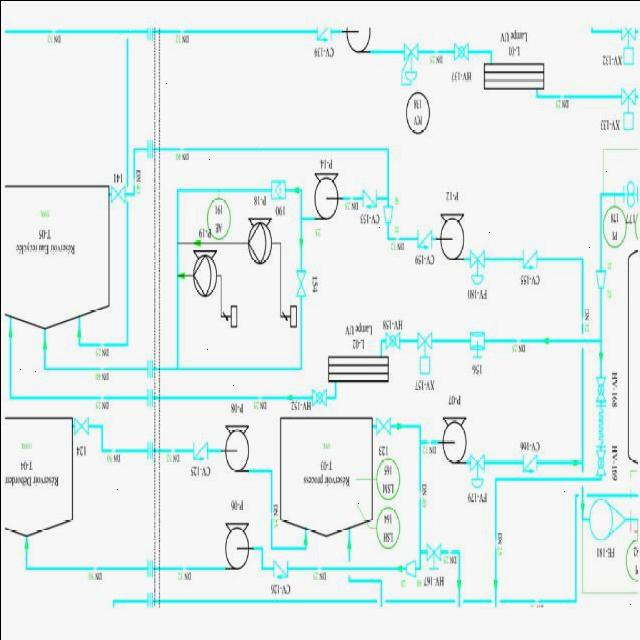Ball Valve: (449, 38, 474, 66), (310, 384, 332, 414), (590, 448, 609, 480), (382, 330, 402, 358), (596, 372, 606, 406)
Centrifugal Pump: (220, 422, 260, 482), (217, 515, 254, 575), (434, 207, 466, 269), (440, 408, 470, 469), (312, 168, 345, 222)
Check Valve: (267, 554, 293, 582), (516, 244, 540, 272), (309, 19, 333, 47), (413, 226, 433, 253), (518, 454, 540, 474), (361, 187, 378, 212), (192, 440, 210, 460)
Gate Valve: (374, 414, 392, 442), (294, 266, 307, 304), (72, 414, 93, 436), (107, 182, 125, 205)
Hand Operated Gate Valve: (422, 539, 443, 577)
Pneumatic-Diaphragm Gate Valve: (466, 444, 486, 492), (466, 245, 486, 287)
Powered Gate Valve: (410, 322, 436, 378), (618, 83, 639, 138), (619, 20, 635, 70)
Pressure Regulator: (397, 34, 420, 90)
